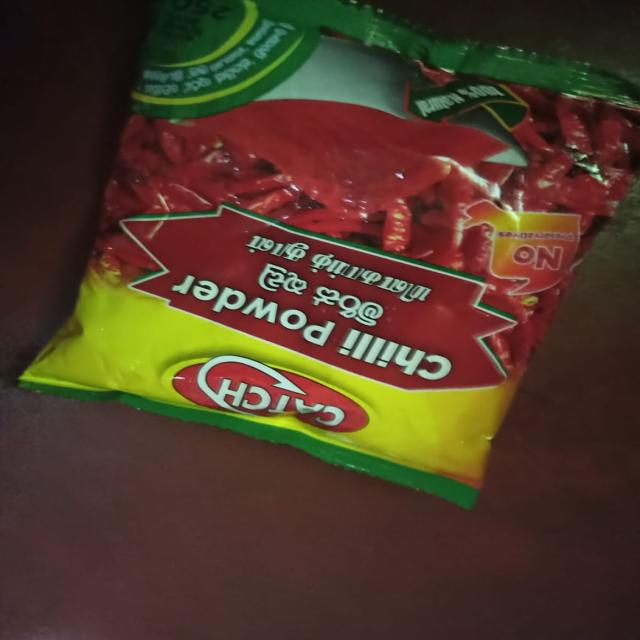Chilli Powder: (0, 0, 640, 522)
